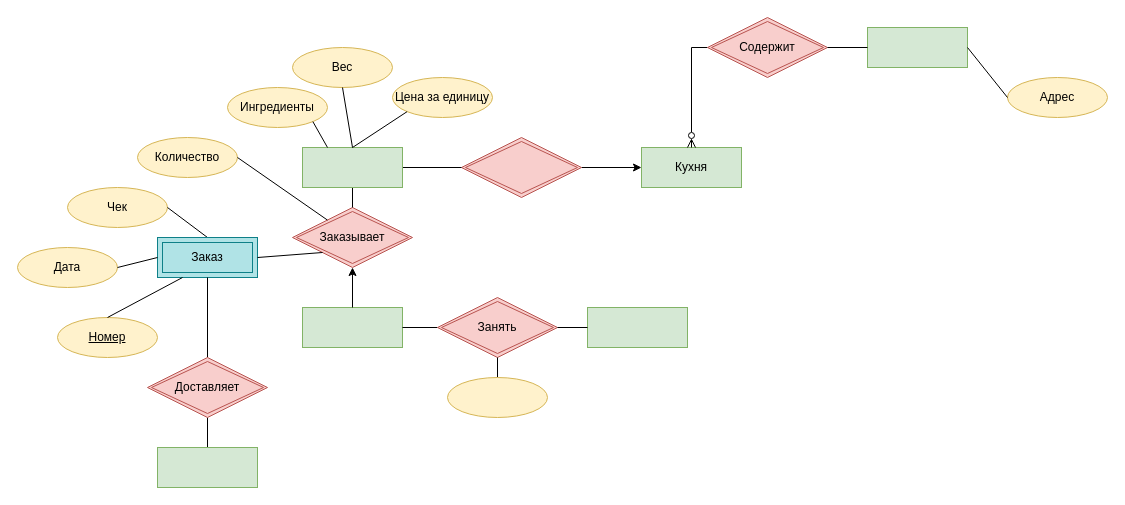
Image size: 1125x505. Some labels were removed from this diagram. Each missing label, with the centre of its shape:
Бронь?: the point at 497,397
Готовит: the point at 521,167
Курьер: the point at 207,467
Позиция меню: the point at 352,167
Покупатель: the point at 352,327
Предприятие: the point at 917,47
Стол: the point at 637,327
